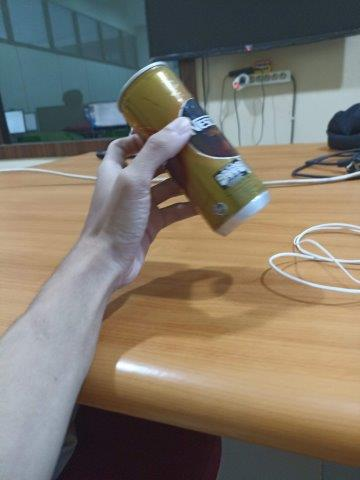kaleng: (116, 61, 270, 238)
